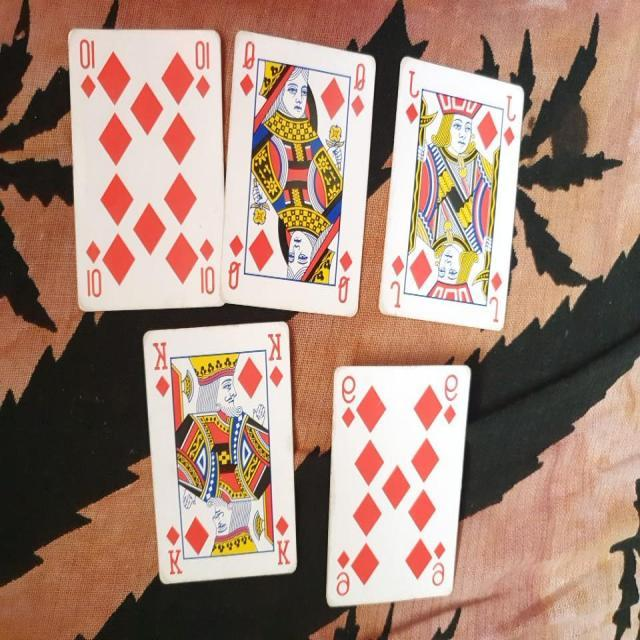10 of diamonds: (63, 26, 229, 314)
9 of diamonds: (324, 366, 474, 612)
jack of diamonds: (377, 56, 525, 334)
king of diamonds: (140, 321, 300, 588)
queen of diamonds: (220, 30, 377, 323)
